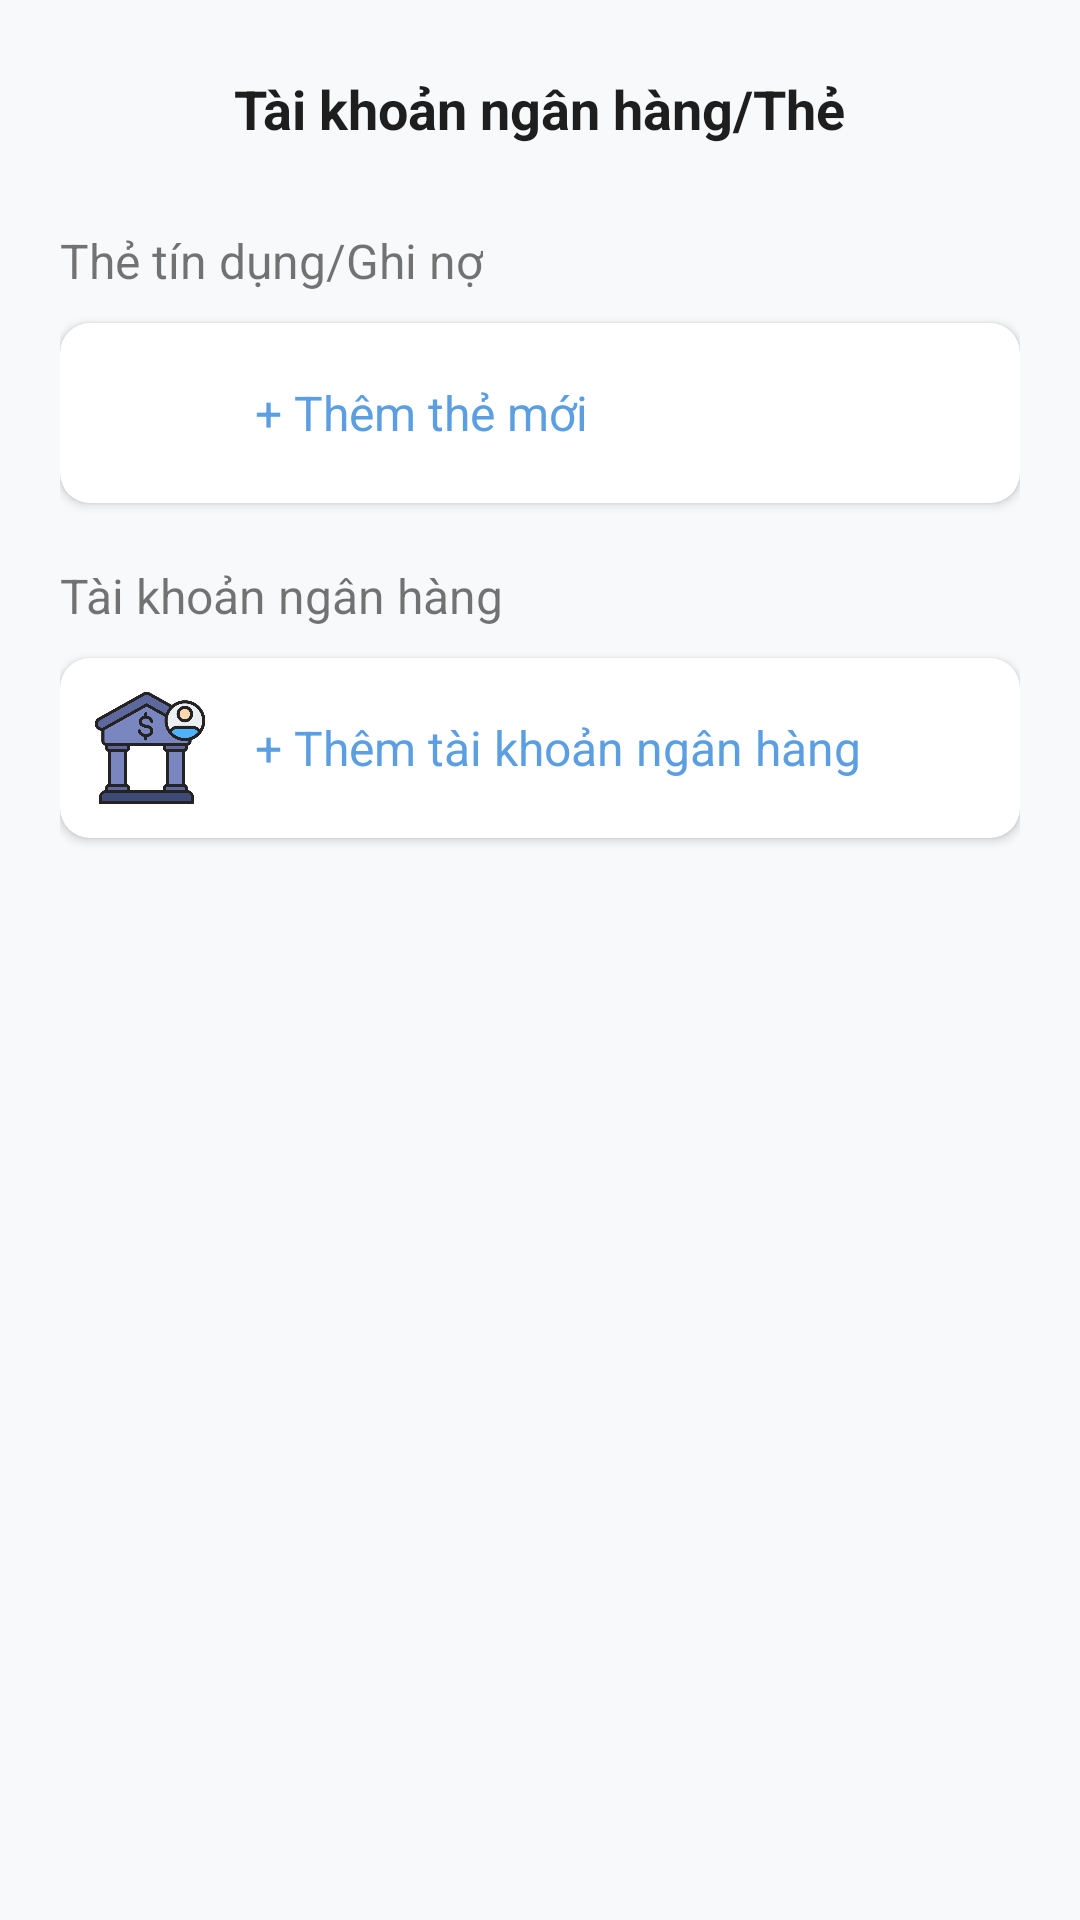

Icons on this 1080x1920 Android screen, each with its box as (x1, y1, x2, y2):
bank account: (95, 692, 205, 804)
